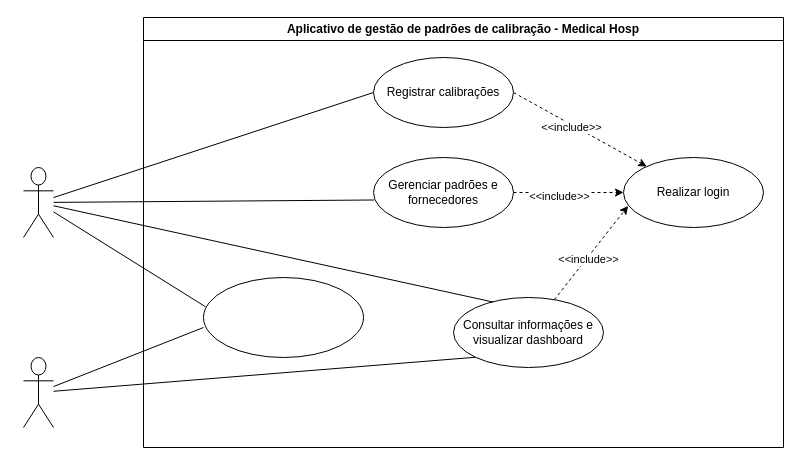
Some shapes in this 801 by 466 pixel diagram are drawn without their labels. The shapes that lost their labels are listed below. From the top down, each one's centre as x and y in pixels, then its label:
At pixel 38 202: "Gestor".
At pixel 283 317: "Ser notificado sobre o vencimento da calibração".
At pixel 38 392: "Técnico".
